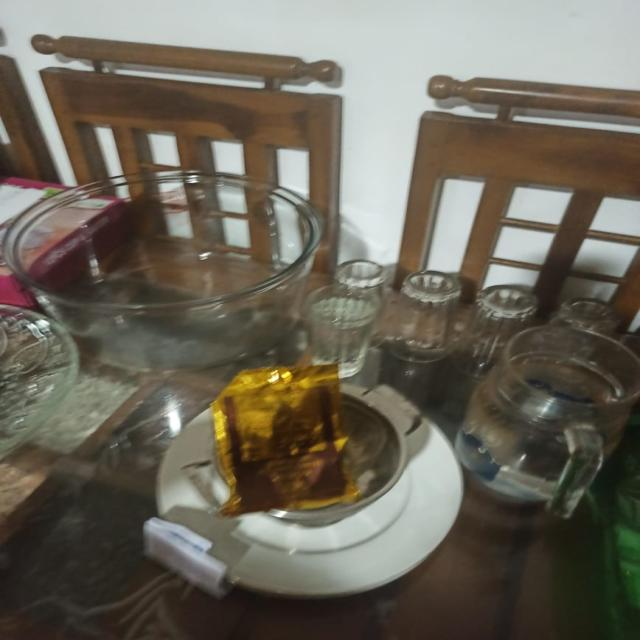Harischandra Coffee: (189, 360, 371, 548)
